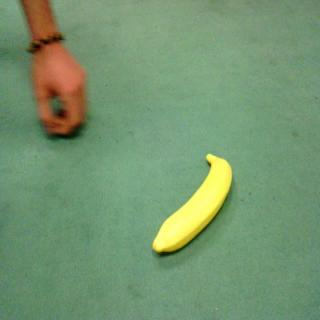banana: (149, 151, 240, 262)
